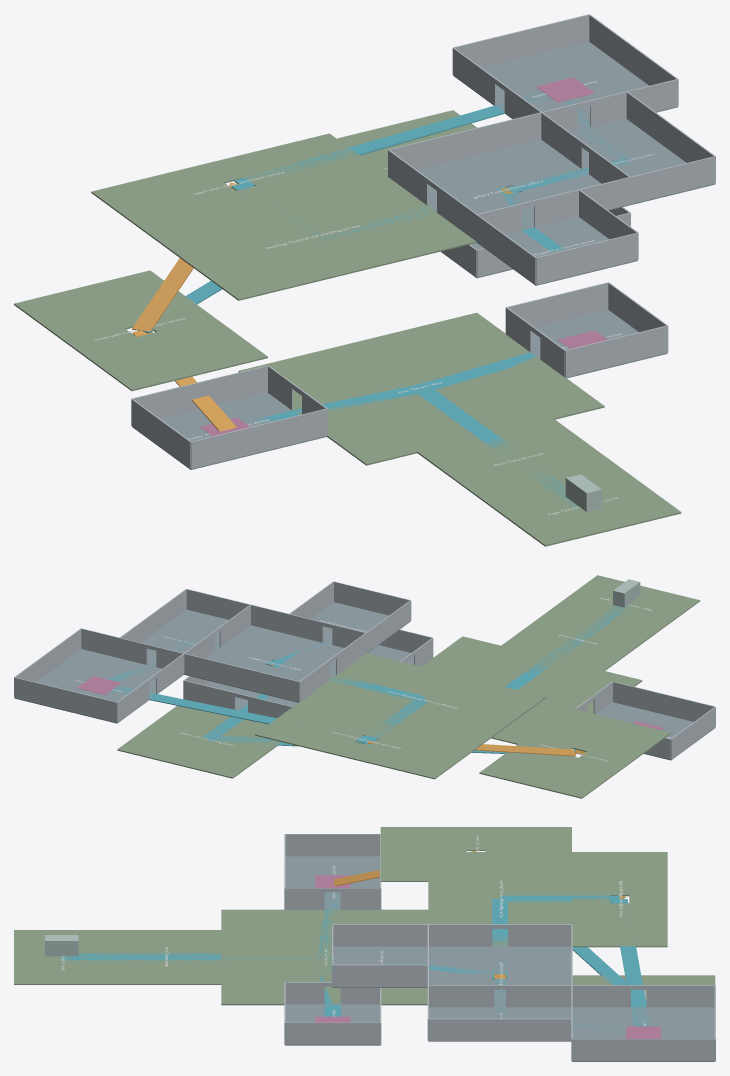
File: rough-shell.glb
3 views of the same model, one above another, from view 1: azimuth 30°, elevation 25°; view 2: azimuth 150°, elevation 25°; view 3: azimuth 270°, elevation 25° (orthographic). The views are drawn at different scales.
Parts seen in each view (by area): view 1: Floor floor, Floor dwellings, Floor entry, Floor stage, Floor chamber, Wall gallery N, Wall shelter S, Floor fork, Wall chamber N, Wall shelter N, Floor lower-path.002, Floor lower-path.007 (+43 smaller); view 2: Floor dwellings, Floor floor, Floor return, Floor entry, Floor stage, Floor chamber, Wall gallery N, Wall chamber N, Floor fork, Wall shelter S, Floor lower-path, Floor lower-path.002 (+51 smaller); view 3: Floor floor, Floor dwellings, Floor entry, Floor stage, Floor chamber, Wall fork E, Wall chamber E, Floor shelter, Wall alcove E, Wall wash E, Wall shelter W, Wall alcove W (+41 smaller).
Boxes of the visible parts, x1,y1,x2,y2 form: Floor floor: (238, 312, 604, 465); Floor dwellings: (150, 177, 476, 300); Floor entry: (417, 418, 621, 503); Floor stage: (486, 469, 681, 546); Floor chamber: (453, 42, 677, 129); Wall gallery N: (388, 112, 541, 169); Wall shelter S: (191, 408, 327, 468); Floor fork: (570, 119, 715, 205); Wall chamber N: (453, 14, 589, 67); Wall shelter N: (131, 365, 267, 418); Floor lower-path.002: (79, 337, 189, 391); Floor lower-path.007: (157, 318, 267, 371); Floor dwellings: (300, 653, 545, 746); Floor floor: (422, 636, 642, 744); Floor return: (117, 706, 280, 778); Floor entry: (501, 608, 655, 670); Floor stage: (553, 575, 700, 633); Floor chamber: (14, 649, 183, 723); Wall gallery N: (184, 653, 299, 701); Wall chamber N: (14, 677, 117, 722); Floor fork: (141, 609, 228, 666); Wall shelter S: (613, 681, 715, 721); Floor lower-path: (538, 758, 621, 798); Floor lower-path.002: (587, 722, 670, 762); Floor floor: (221, 909, 428, 1005); Floor dwellings: (428, 852, 571, 946); Floor entry: (109, 930, 221, 984); Floor stage: (14, 930, 109, 984); Floor chamber: (572, 1007, 715, 1061); Wall fork E: (428, 1018, 571, 1040); Wall chamber E: (572, 1039, 715, 1060); Floor shelter: (285, 856, 379, 909); Wall alcove E: (332, 964, 427, 986); Wall wash E: (285, 1022, 380, 1044); Wall shelter W: (285, 834, 380, 856); Wall alcove W: (333, 924, 427, 946).
Bounding box in the file's own units: 78.16 × 11.16 × 88.08.
